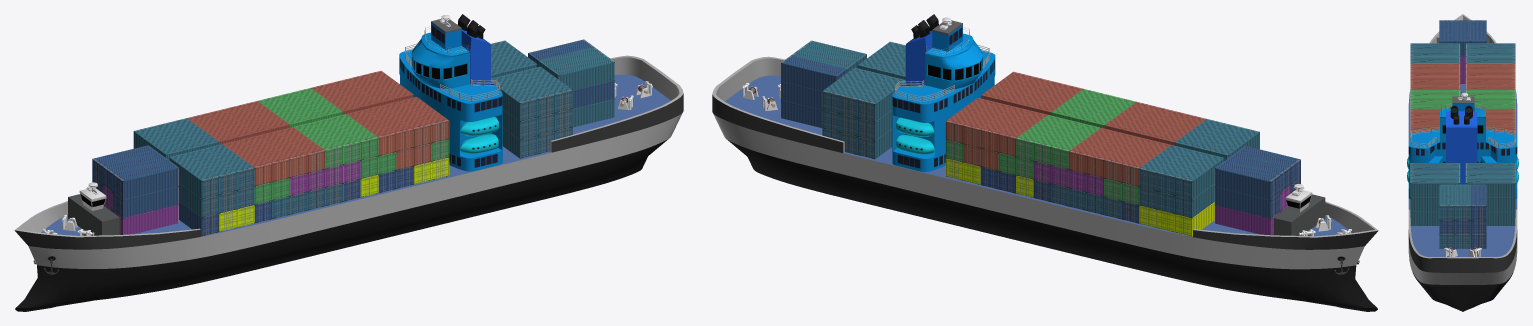
Rendered from Brod.fbx.
The picture shows the model from 3 angles, left to right: view 1: azimuth 30°, elevation 25°; view 2: azimuth 150°, elevation 25°; view 3: azimuth 270°, elevation 25°; orthographic projection. The views are drawn at different scales.
Parts seen in each view (by area): view 1: line.001, line.002, line, line.006, object.001, line.007, box.037, box.081, box.090, box.012, box.068, box.082 (+46 smaller); view 2: line.001, line.002, line, line.006, object.001, line.007, box.037, box.079, box.088, box.075, box.068, box.083 (+47 smaller); view 3: line, object.001, box.065, line.006, line.001, line.002, box.093, box.099, line.007, box.088, box.090, box.147 (+52 smaller).
Part boxes in pixels (x1=…): line.001: x1=15, y1=139, x2=668, y2=311; line.002: x1=28, y1=112, x2=682, y2=268; line: x1=399, y1=49, x2=502, y2=171; line.006: x1=14, y1=93, x2=683, y2=249; object.001: x1=41, y1=74, x2=670, y2=236; line.007: x1=15, y1=55, x2=683, y2=237; box.037: x1=411, y1=32, x2=469, y2=88; box.081: x1=112, y1=160, x2=178, y2=199; box.090: x1=548, y1=54, x2=614, y2=90; box.012: x1=169, y1=153, x2=219, y2=199; box.068: x1=68, y1=194, x2=119, y2=235; box.082: x1=112, y1=186, x2=178, y2=217; line.001: x1=726, y1=139, x2=1377, y2=311; line.002: x1=713, y1=113, x2=1364, y2=269; line: x1=892, y1=50, x2=995, y2=171; line.006: x1=712, y1=94, x2=1378, y2=249; object.001: x1=725, y1=75, x2=1351, y2=236; line.007: x1=712, y1=56, x2=1377, y2=237; box.037: x1=925, y1=33, x2=982, y2=89; box.079: x1=1214, y1=161, x2=1280, y2=199; box.088: x1=781, y1=55, x2=846, y2=91; box.075: x1=1174, y1=153, x2=1224, y2=199; box.068: x1=1273, y1=194, x2=1325, y2=235; box.083: x1=1214, y1=186, x2=1280, y2=218; line: x1=1408, y1=130, x2=1517, y2=198; object.001: x1=1408, y1=84, x2=1517, y2=256; box.065: x1=1446, y1=111, x2=1477, y2=184; line.006: x1=1408, y1=230, x2=1517, y2=272; line.001: x1=1412, y1=272, x2=1513, y2=311; line.002: x1=1408, y1=240, x2=1517, y2=284; box.093: x1=1465, y1=176, x2=1515, y2=197; box.099: x1=1410, y1=176, x2=1460, y2=197; line.007: x1=1408, y1=14, x2=1517, y2=258; box.088: x1=1471, y1=184, x2=1486, y2=220; box.090: x1=1439, y1=184, x2=1454, y2=220; box.147: x1=1455, y1=184, x2=1470, y2=220.
Bounding box in the file's own units: 2199 × 631 × 425.
Materials: 37 (16 with a texture image).
